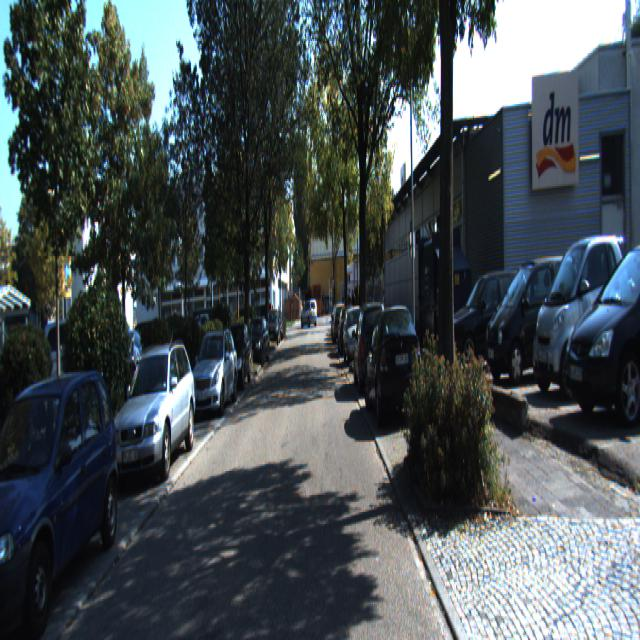Car: (0, 364, 126, 638), (529, 226, 640, 411), (559, 224, 640, 446), (480, 244, 592, 394), (109, 336, 197, 488), (445, 262, 540, 380), (363, 300, 423, 432), (188, 323, 239, 418), (352, 296, 390, 397)
